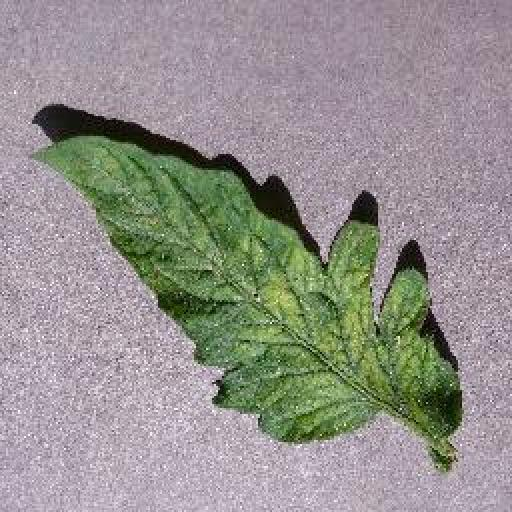Mosaic Virus: (28, 130, 466, 450)
